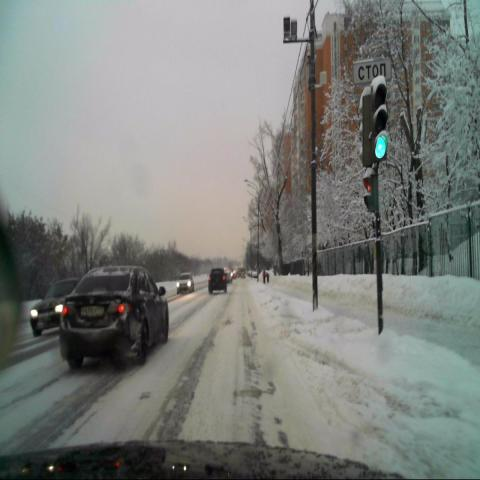6_16: (353, 59, 392, 82)
